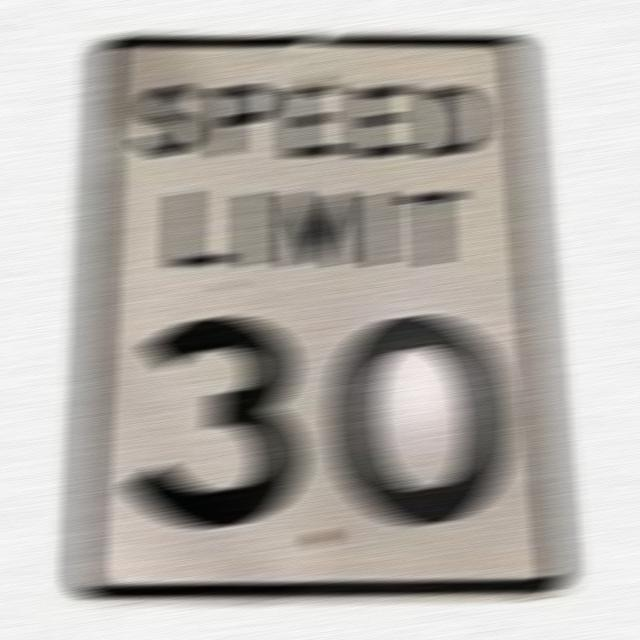speedLimit30: (81, 42, 582, 604)
